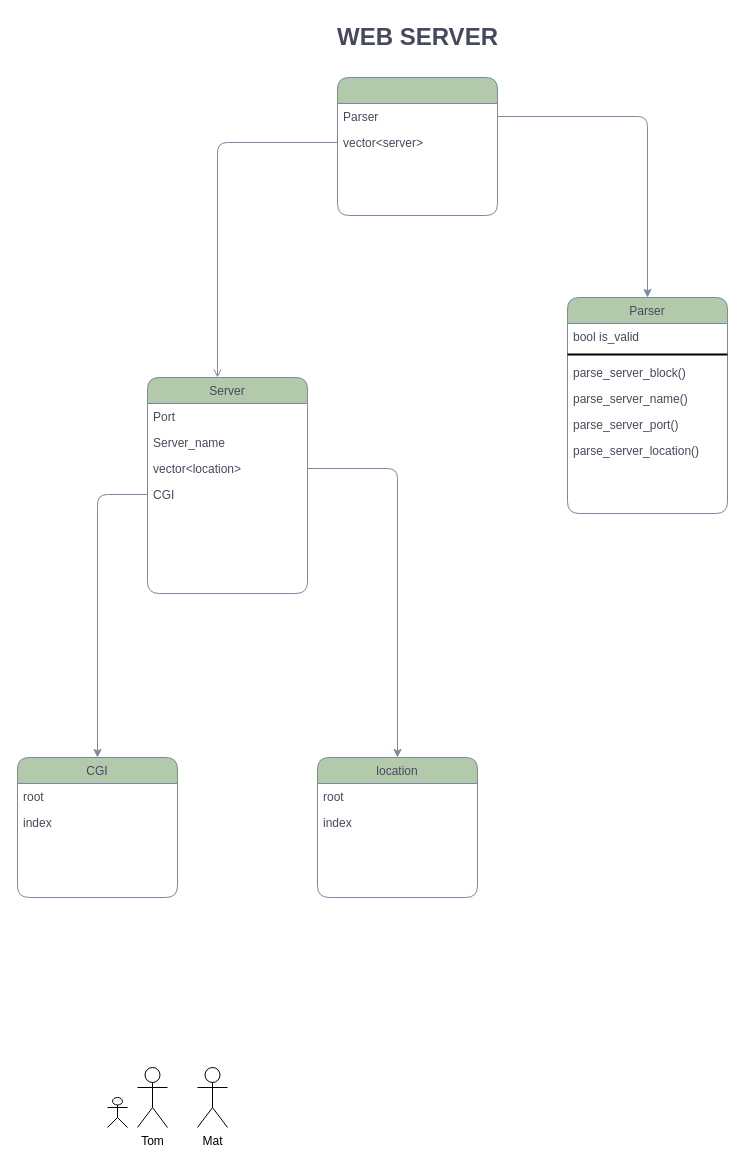
Image size: 746x1165. Some labels were removed from this diagram. The shapes that lost their labels are listed below. From the top down, each one's box as (x1, y1, x2, y2) in pixels, then its label:
(336, 76, 498, 216): Cluster
(106, 1096, 128, 1128): Thib
